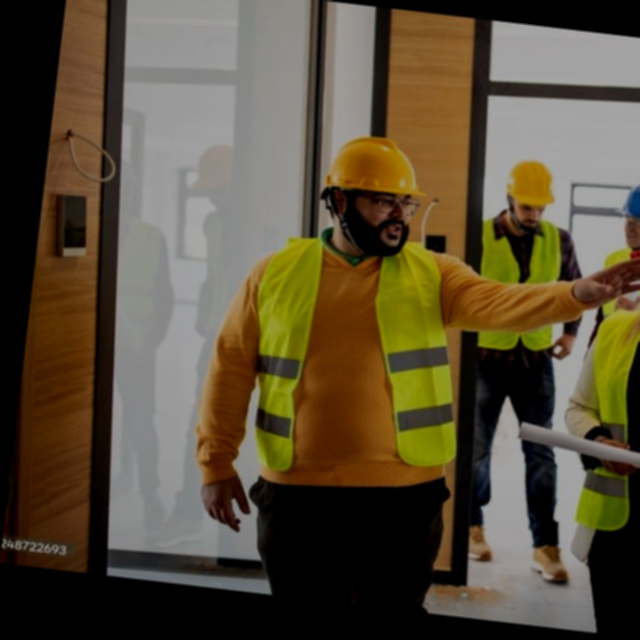Con_Casco: (316, 131, 433, 263)
Con_Chaleco: (245, 231, 481, 489), (467, 211, 574, 358)
